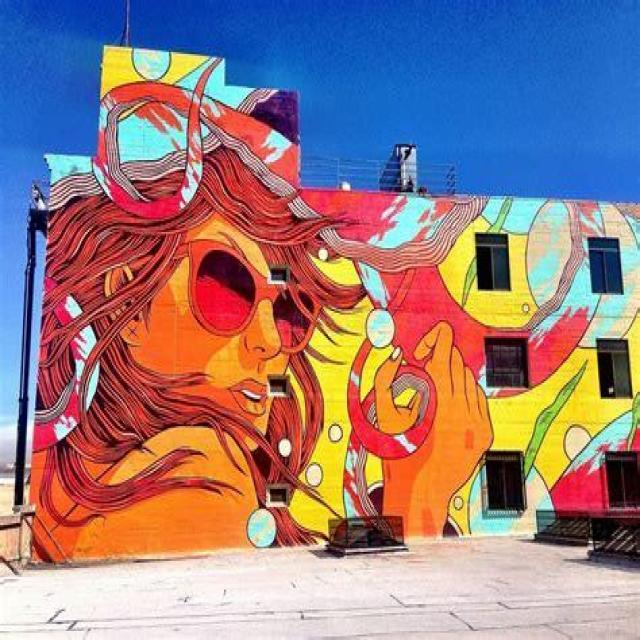nonspitting: (524, 192, 640, 350), (548, 390, 640, 516)
spitting: (29, 78, 494, 562)
